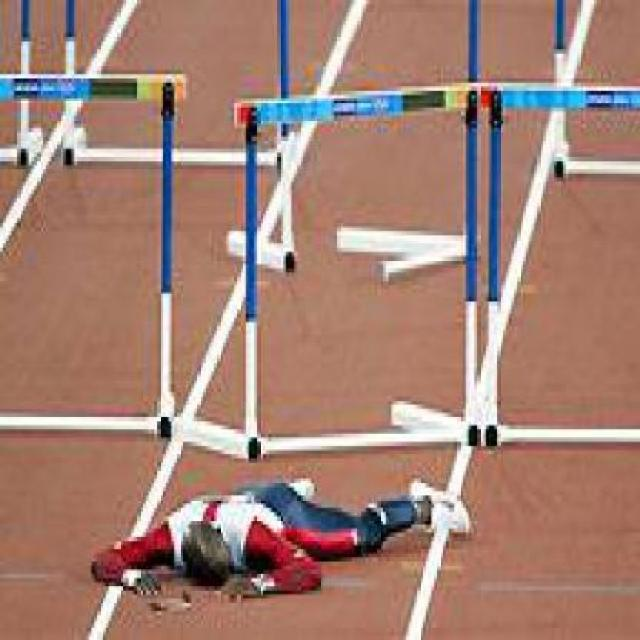fall: (85, 438, 461, 598)
